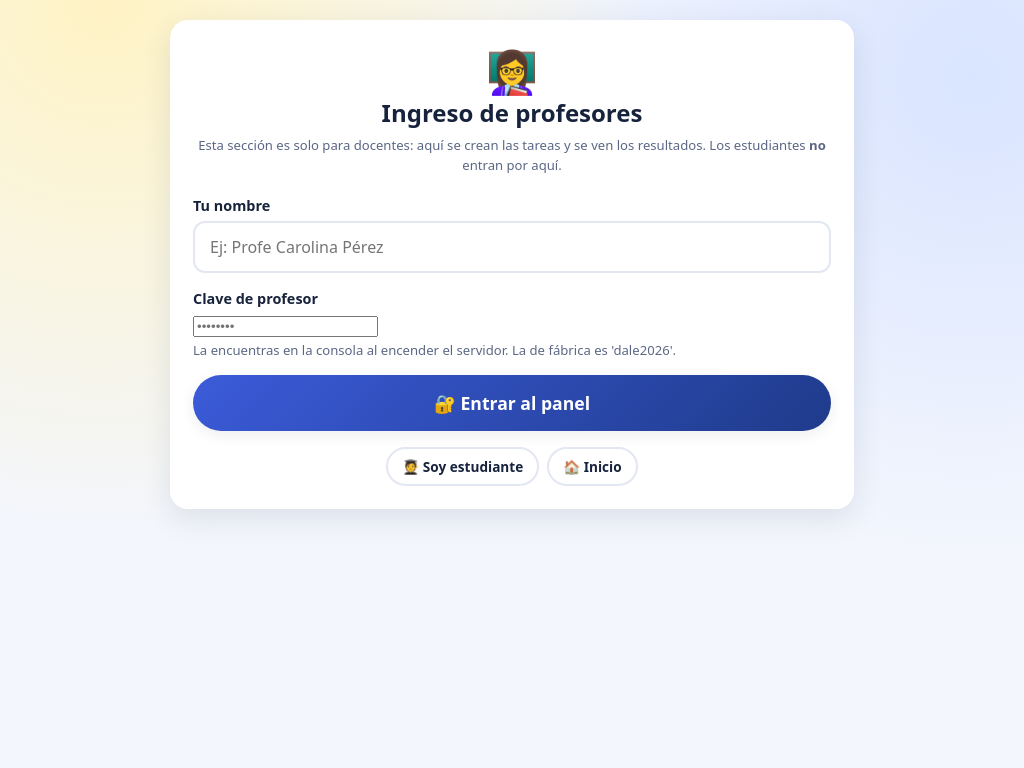
Test: Panel del profesor › no deja entrar con una clave incorrecta
Check: the heading "Ingreso de profesores" is shown, box top-left (382, 96), bottom-right (642, 129)
Type "mala" into the password field with placeholder "••••••••".
click(286, 326); type("mala")  # box top-left (193, 316), bottom-right (378, 337)
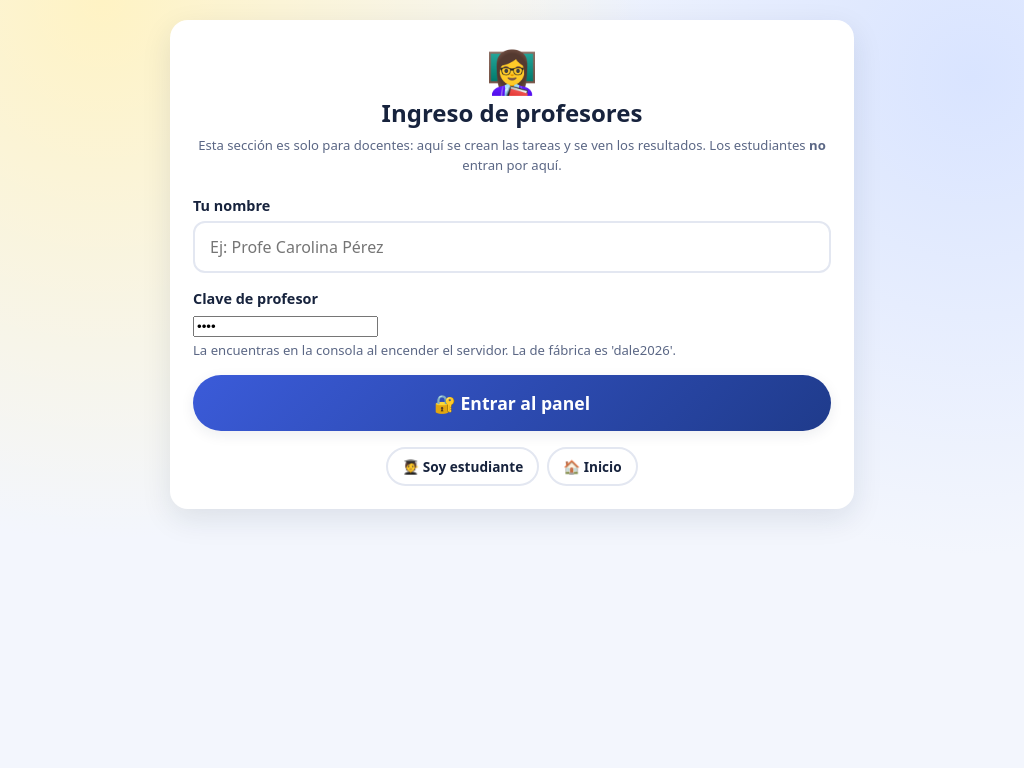
Click the button "🔐 Entrar al panel".
click(512, 403)  # box top-left (193, 375), bottom-right (831, 431)
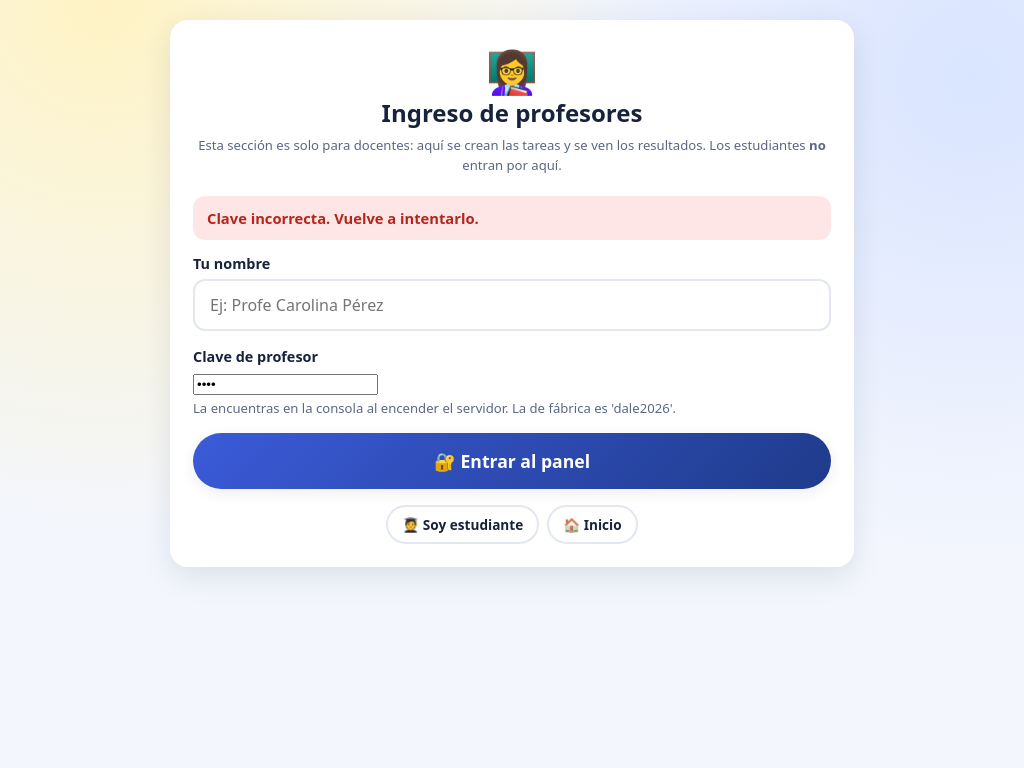
Check: the text "Clave incorrecta. Vuelve a intentarlo." is shown, box top-left (193, 196), bottom-right (831, 240)
